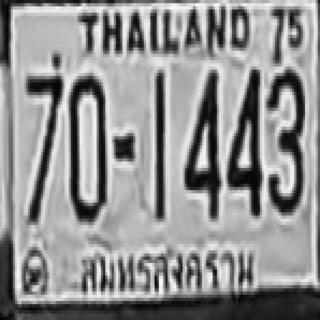N00: (70, 73, 106, 222)
N01: (152, 70, 166, 219), (154, 70, 164, 206)
N03: (266, 67, 303, 212)
N04: (182, 66, 219, 216), (226, 66, 260, 216)
N07: (25, 73, 63, 222)
P59: (73, 240, 268, 302)
